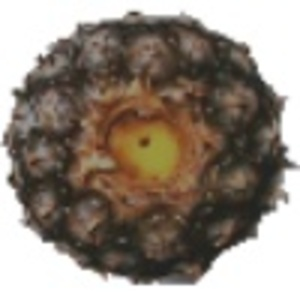abacaxi: (5, 11, 284, 272)
